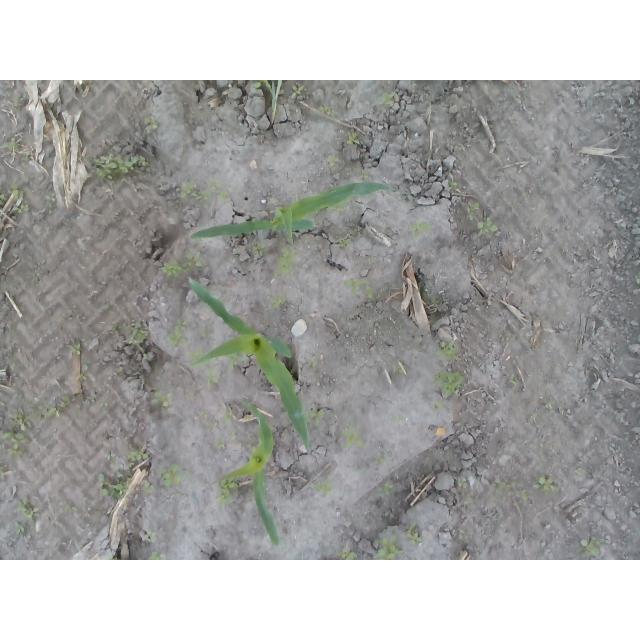Maize: (186, 273, 312, 455), (188, 180, 393, 241), (226, 398, 282, 544)
Weeds: (97, 446, 156, 502), (88, 140, 153, 185), (178, 177, 230, 206), (160, 249, 207, 279), (156, 462, 192, 490), (493, 479, 531, 505), (40, 395, 80, 419), (432, 368, 465, 397), (0, 427, 32, 456), (272, 245, 301, 277), (0, 185, 30, 215), (334, 423, 366, 450), (265, 81, 283, 128), (150, 382, 175, 414), (215, 478, 239, 511), (345, 278, 376, 303), (576, 535, 608, 558), (531, 473, 561, 495), (375, 537, 402, 560), (167, 318, 189, 346), (408, 216, 432, 240), (419, 279, 440, 306), (127, 317, 147, 345), (194, 410, 219, 431), (9, 409, 31, 431), (14, 496, 34, 520), (436, 340, 460, 360), (405, 521, 424, 543), (317, 103, 339, 122), (477, 217, 498, 236), (141, 112, 160, 133), (43, 191, 58, 217), (312, 481, 337, 496), (334, 548, 358, 561), (251, 239, 268, 257), (381, 89, 399, 106), (307, 408, 326, 424), (465, 200, 480, 220), (207, 366, 221, 387), (374, 448, 391, 464), (271, 295, 289, 310), (347, 131, 362, 148), (457, 527, 471, 545), (0, 137, 18, 151), (222, 407, 234, 425), (143, 529, 157, 544), (543, 399, 554, 417), (188, 348, 203, 361), (308, 355, 321, 370), (289, 84, 304, 97), (63, 344, 81, 354), (144, 550, 162, 560), (62, 504, 81, 513), (96, 303, 113, 313), (446, 179, 459, 192), (15, 521, 26, 536), (432, 401, 444, 414), (229, 355, 240, 369), (96, 400, 113, 409), (327, 155, 337, 170), (140, 348, 152, 360), (358, 168, 369, 181), (111, 323, 123, 334), (214, 439, 226, 450), (457, 479, 468, 490), (90, 388, 98, 403), (198, 326, 208, 338), (382, 482, 394, 492), (255, 80, 266, 90), (76, 374, 88, 383), (340, 240, 352, 249), (367, 255, 377, 265), (510, 375, 519, 386), (394, 366, 403, 375), (382, 285, 390, 295), (15, 95, 27, 101), (230, 432, 238, 440), (20, 155, 28, 162), (112, 556, 119, 560)
